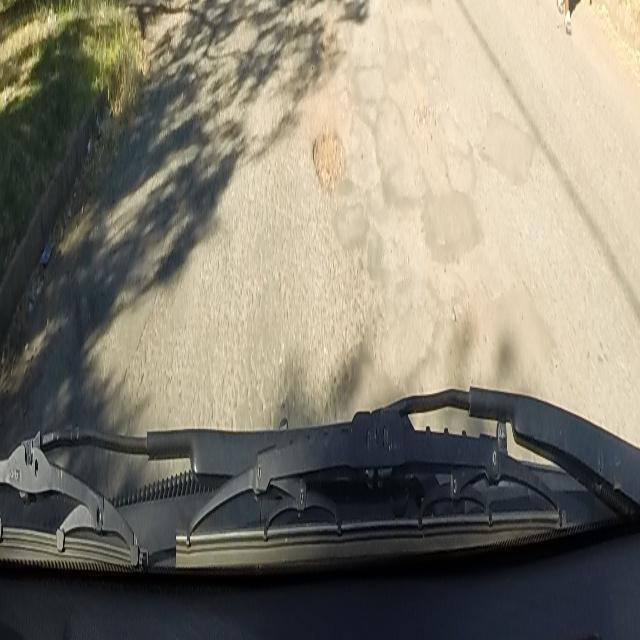pothole: (310, 123, 348, 196)
